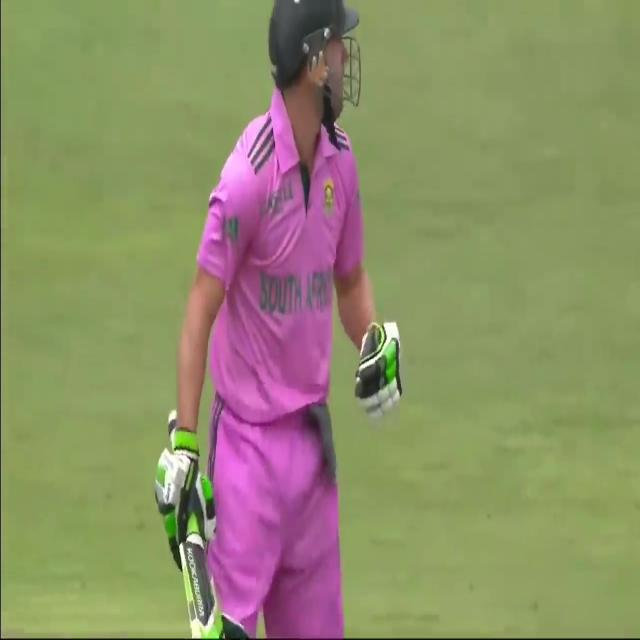Ball: (158, 1, 407, 639)
